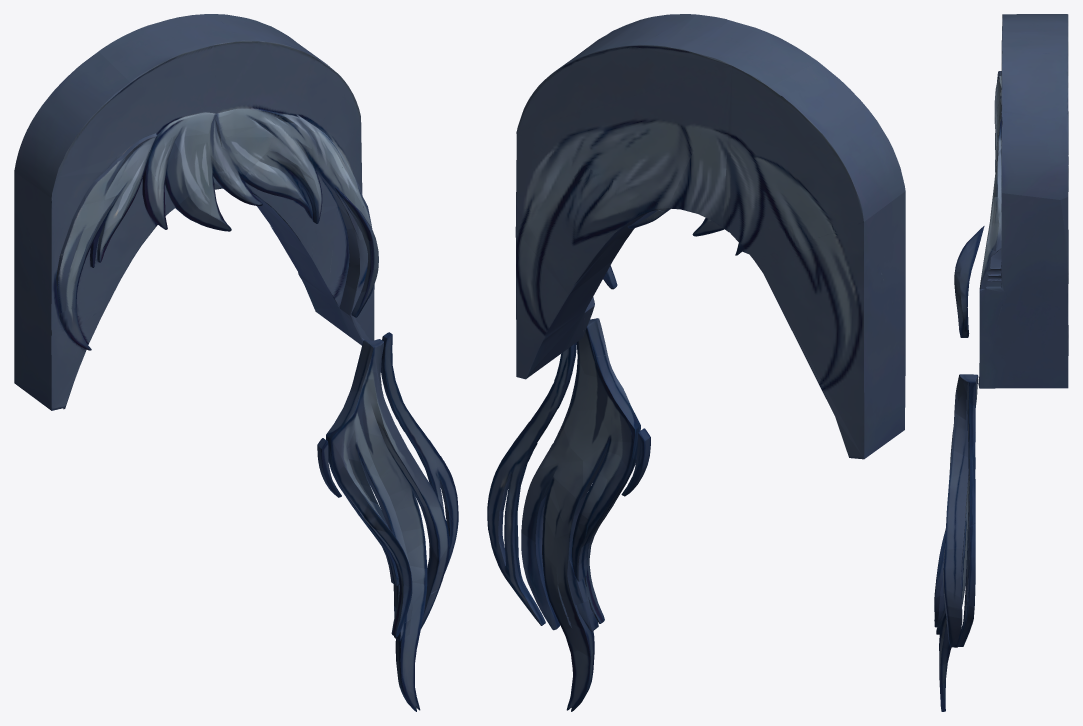
File: nerith_f-meche-7-queue-de-cote-calotte.glb
3 renders of one model, left to right at view 1: azimuth 30°, elevation 25°; view 2: azimuth 150°, elevation 25°; view 3: azimuth 270°, elevation 25°, orthographic. The views are drawn at different scales.
Parts seen in each view (by area): view 1: geometry_0; view 2: geometry_0; view 3: geometry_0.
Part boxes in pixels (x1,y1,x2,y2): geometry_0: (14, 14, 458, 711); geometry_0: (487, 14, 905, 711); geometry_0: (934, 14, 1068, 711).
Bounding box in the file's own units: 1.13 × 1.91 × 0.3844.
1 material, 1 textured.
